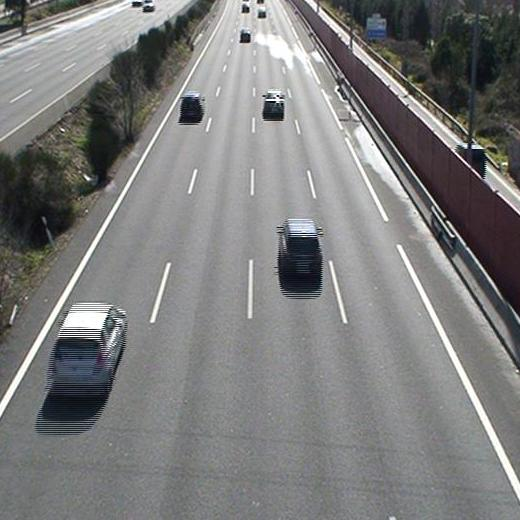car: (49, 300, 130, 401), (276, 219, 322, 284), (177, 91, 204, 122), (264, 89, 286, 120), (239, 28, 252, 42)
